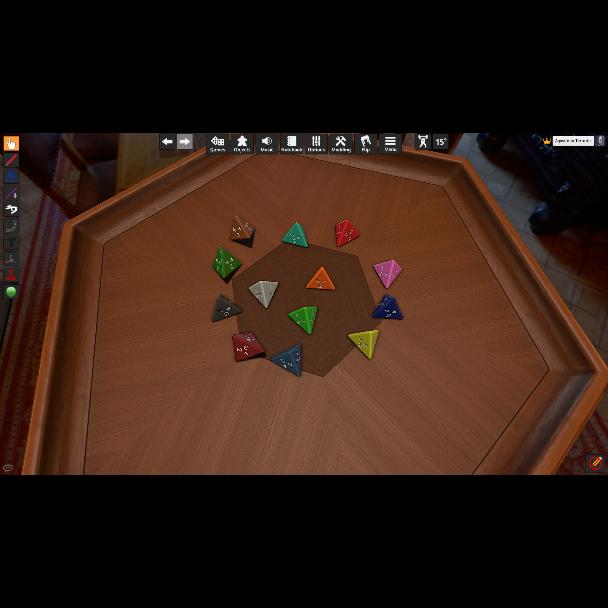d4: (270, 344, 302, 376), (212, 247, 240, 282), (232, 332, 264, 362), (348, 330, 377, 360), (212, 294, 242, 322), (248, 281, 278, 309), (288, 306, 316, 334), (372, 260, 400, 288), (371, 294, 400, 320), (230, 212, 253, 242), (281, 222, 306, 248), (306, 268, 333, 290), (336, 220, 358, 247)
